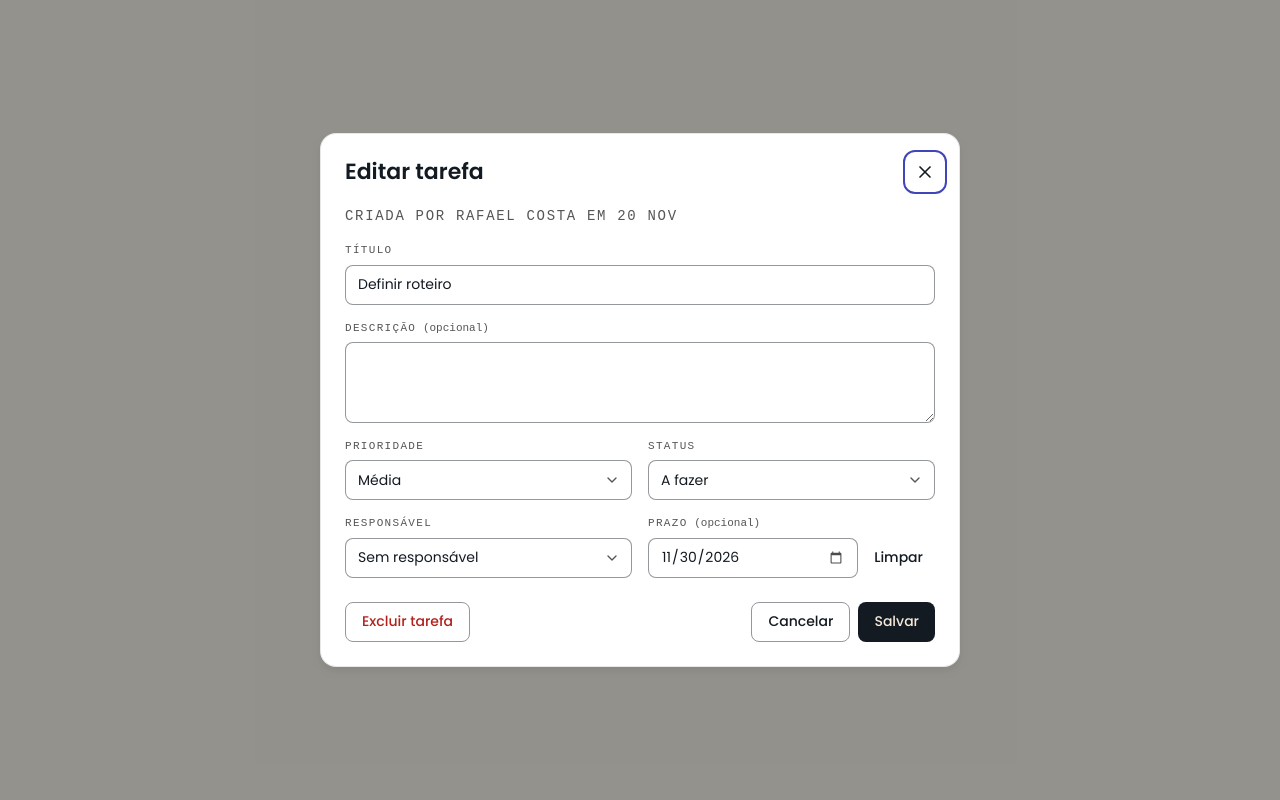
Scenario: TaskDialog › confirms before deleting and then deletes
Later steps or results of the test are not shown.
Click the button "Excluir tarefa".
click(408, 622)  # box [345,602,470,642]
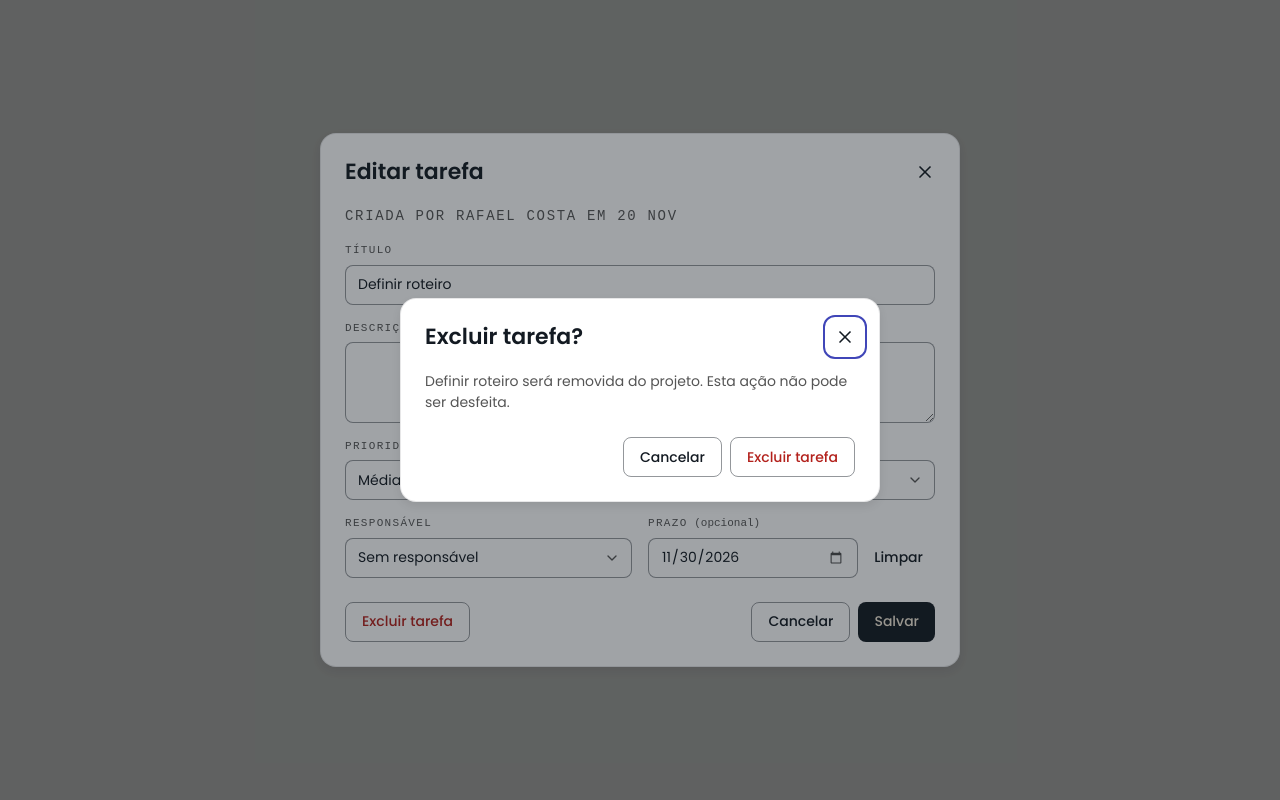
Expected: the text "Definir roteiro será removida do projeto. Esta ação não pode ser desfeita." is shown, [425,371,855,413]
